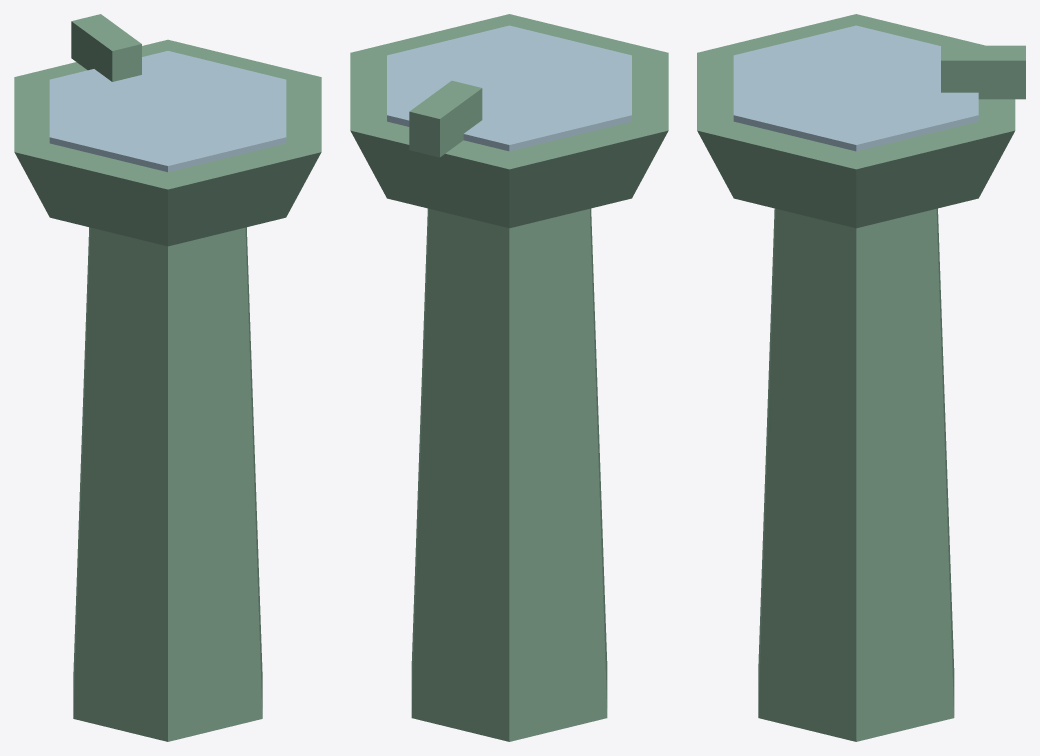
File: drinking-water-far.glb
3 views of the same model, side by side, from view 1: azimuth 30°, elevation 25°; view 2: azimuth 150°, elevation 25°; view 3: azimuth 270°, elevation 25° (orthographic). The views are drawn at different scales.
Visible parts, largest first — view 1: drinking-water-far; view 2: drinking-water-far; view 3: drinking-water-far.
Part boxes in pixels (x1,y1,x2,y2): drinking-water-far: [14, 14, 321, 741]; drinking-water-far: [350, 14, 668, 741]; drinking-water-far: [697, 14, 1025, 741].
Bounding box in the file's own units: 0.52 × 1 × 0.4652.
